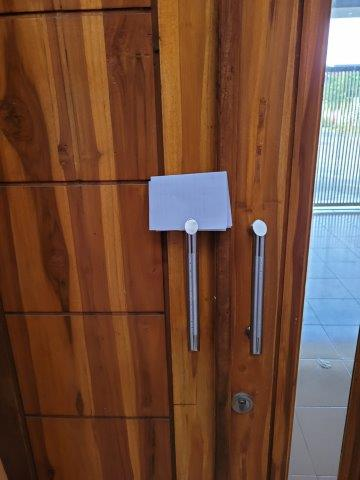kertas: (147, 171, 233, 232)
